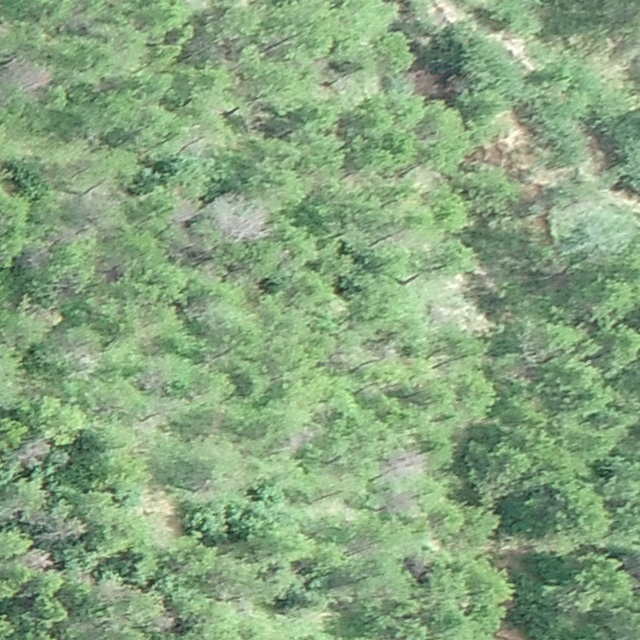unhealthy: (216, 198, 272, 241), (8, 56, 56, 91), (36, 516, 85, 543), (140, 488, 173, 525), (384, 449, 430, 475), (21, 437, 50, 470), (30, 239, 54, 272), (18, 547, 55, 568), (173, 198, 202, 224), (30, 305, 61, 329), (389, 489, 418, 514), (406, 554, 432, 581), (100, 582, 132, 600), (153, 614, 176, 633)
